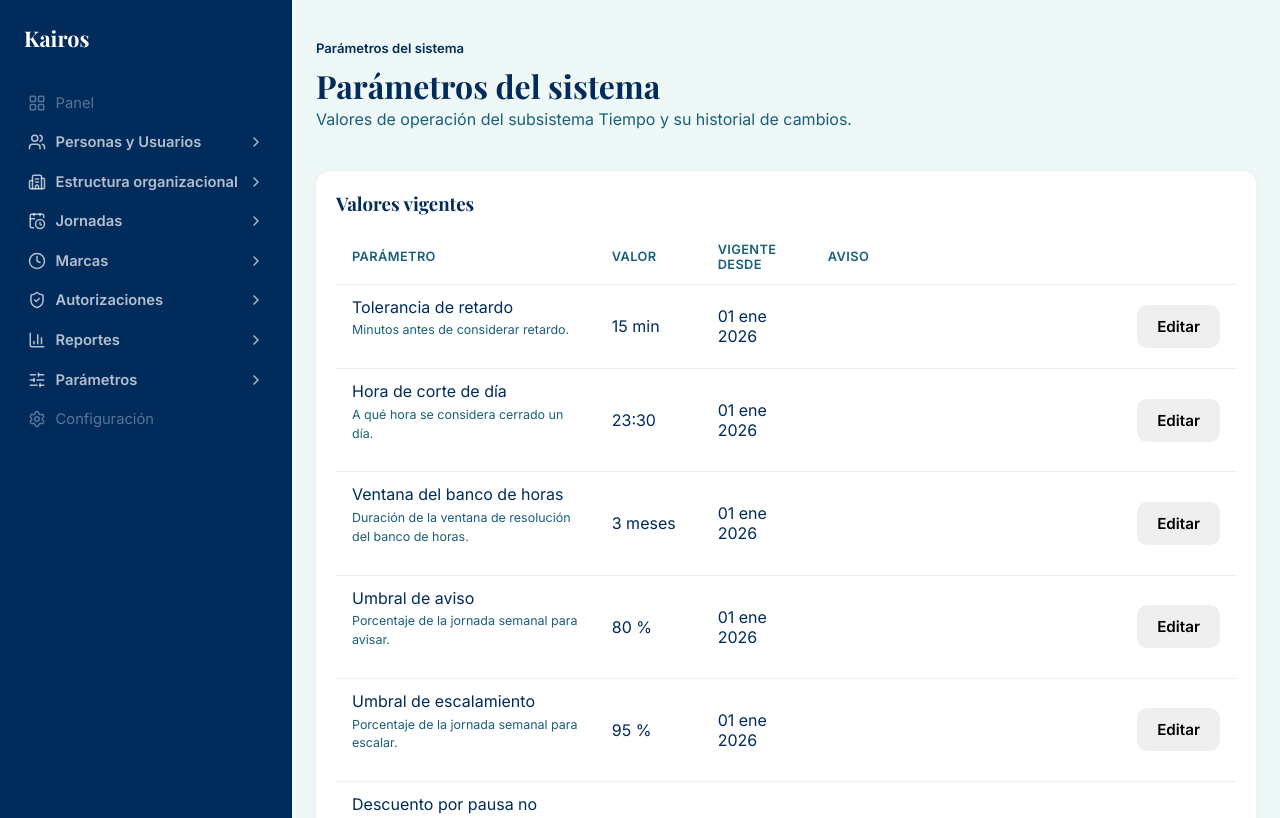
it: ParametrosSistemaPage › un 4xx en el PUT muestra el error sin cerrar la confirmación
Expected: the text "Ventana del banco de horas" is shown, top-left (352, 484), bottom-right (564, 504)
Click the button "Editar" in the row of "Minutos antes de considerar retardo.". click: [1178, 326]
box: top-left (1137, 305), bottom-right (1220, 348)
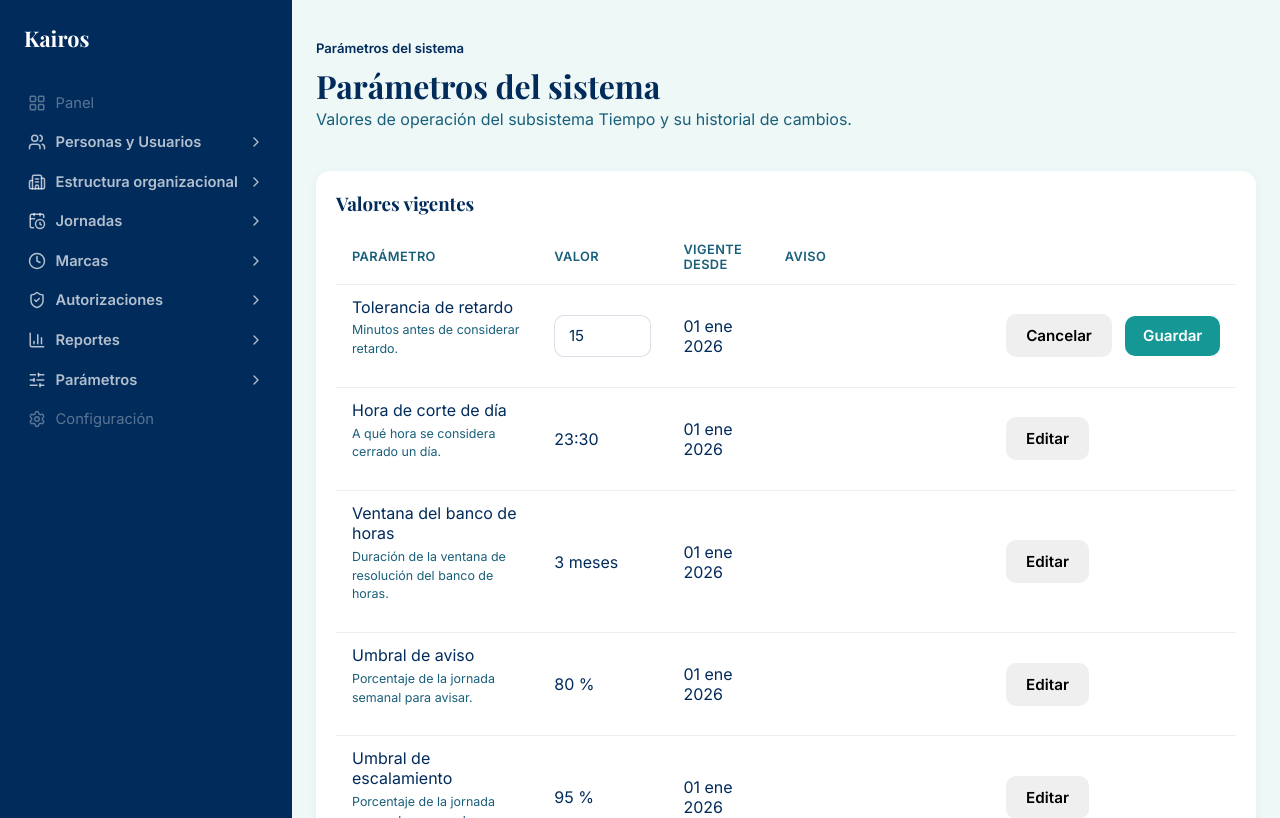
Replace the text in the number field named "Nuevo valor para Tolerancia de retardo" with "20". click: [603, 336]
box: top-left (554, 315), bottom-right (651, 357)
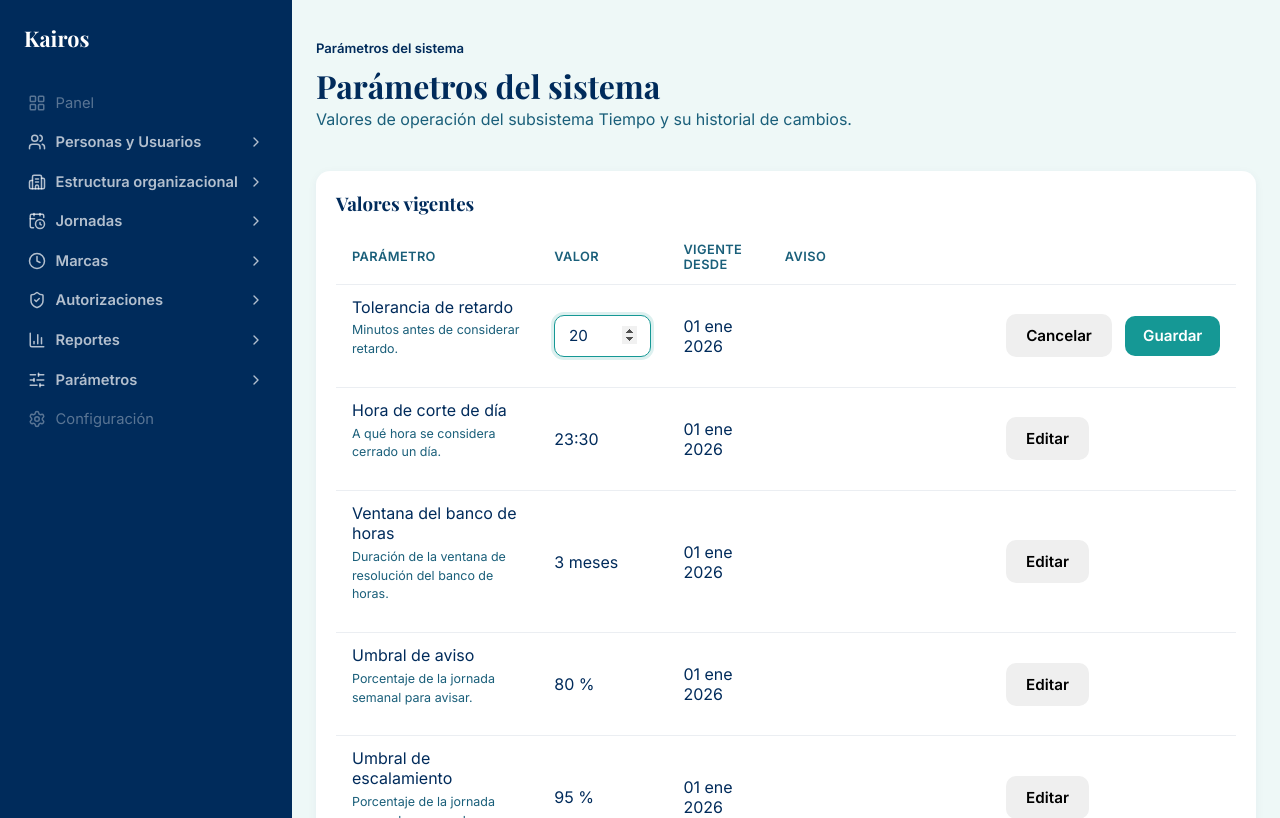
Click the button "Guardar". click: [1173, 336]
box: top-left (1126, 316), bottom-right (1220, 356)
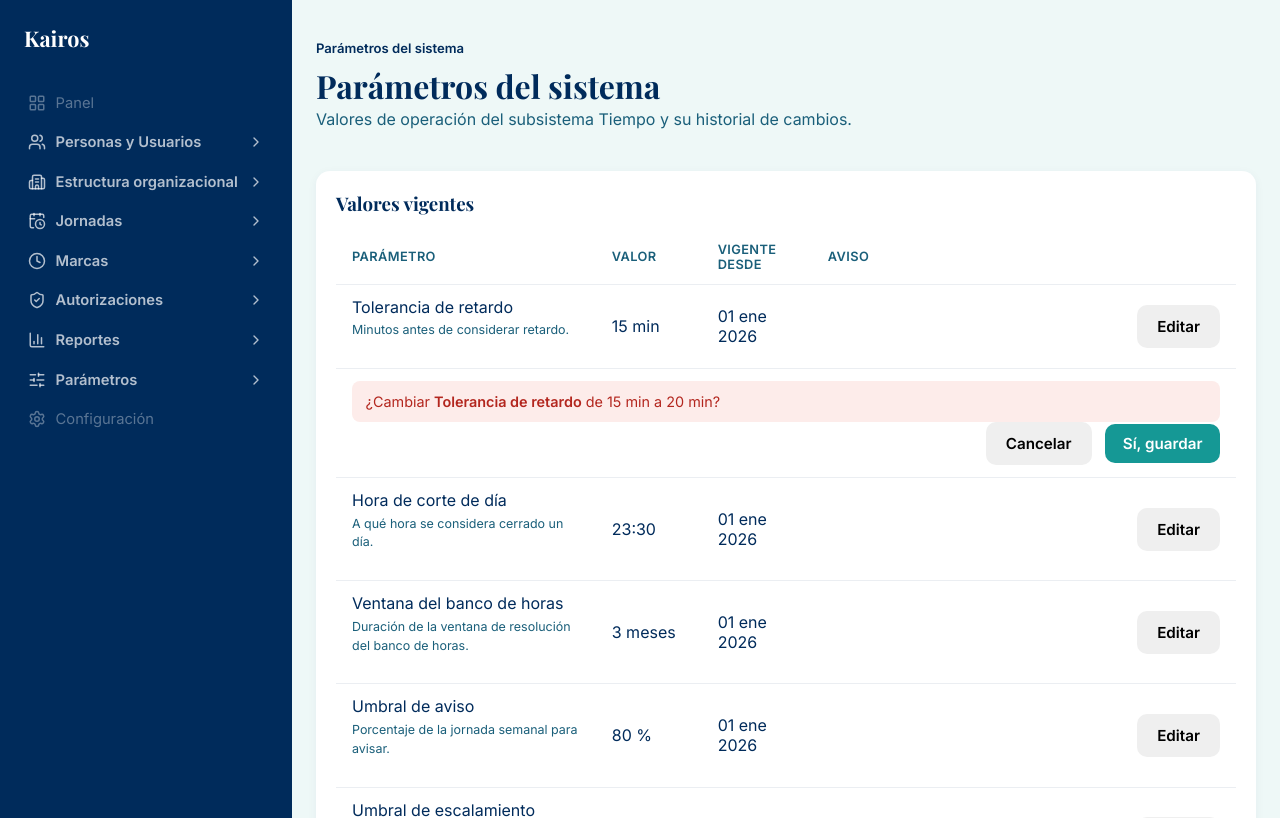
Click the button "Sí, guardar". click: [1163, 443]
box: top-left (1105, 424), bottom-right (1220, 463)
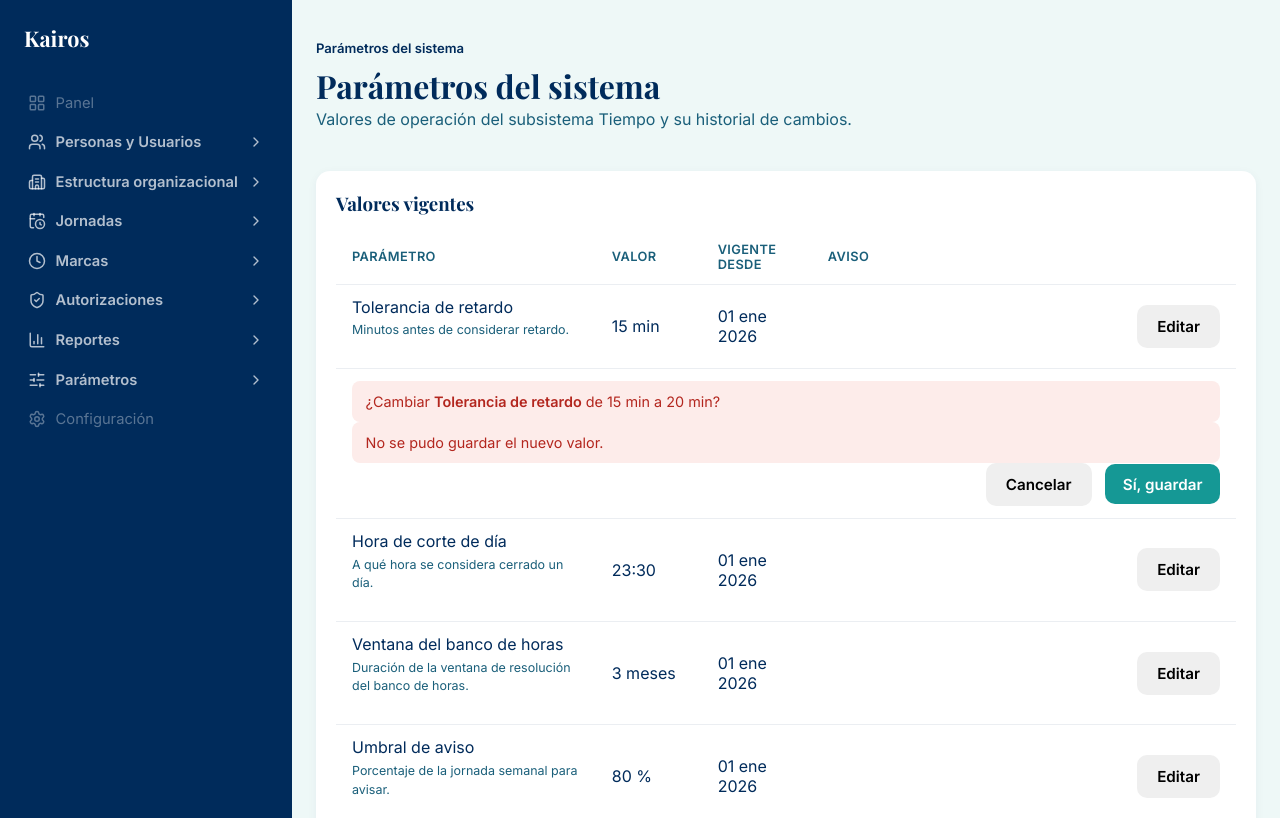
Expected: the button "Sí, guardar" is shown, top-left (1105, 464), bottom-right (1220, 504)
Expected: the text "No se pudo guardar el nuevo valor." is shown, top-left (352, 422), bottom-right (1220, 463)
